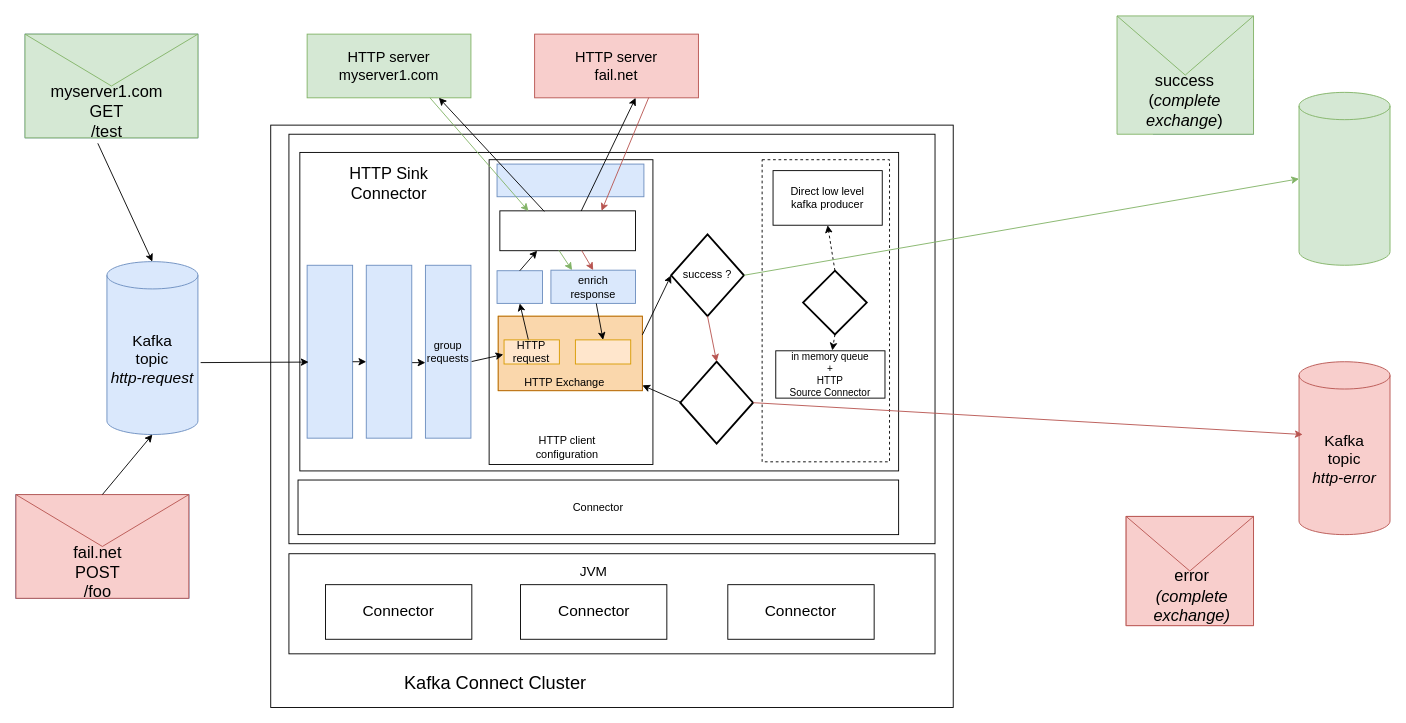
The diagram is 1406 pixels wide and 723 high, and some of its shapes have lost their labels. The shapes that lost their labels are listed below. From the top down, each one's centre as x and y in pixels, then its label:
point (570, 180): rate limit
point (1344, 178): Kafka topic http-success
point (567, 230): HTTP Client
point (519, 286): enrich request
point (834, 302): publisher config
point (329, 351): split message
point (388, 351): map message into request
point (602, 351): HTTP response
point (716, 402): retryable ?
